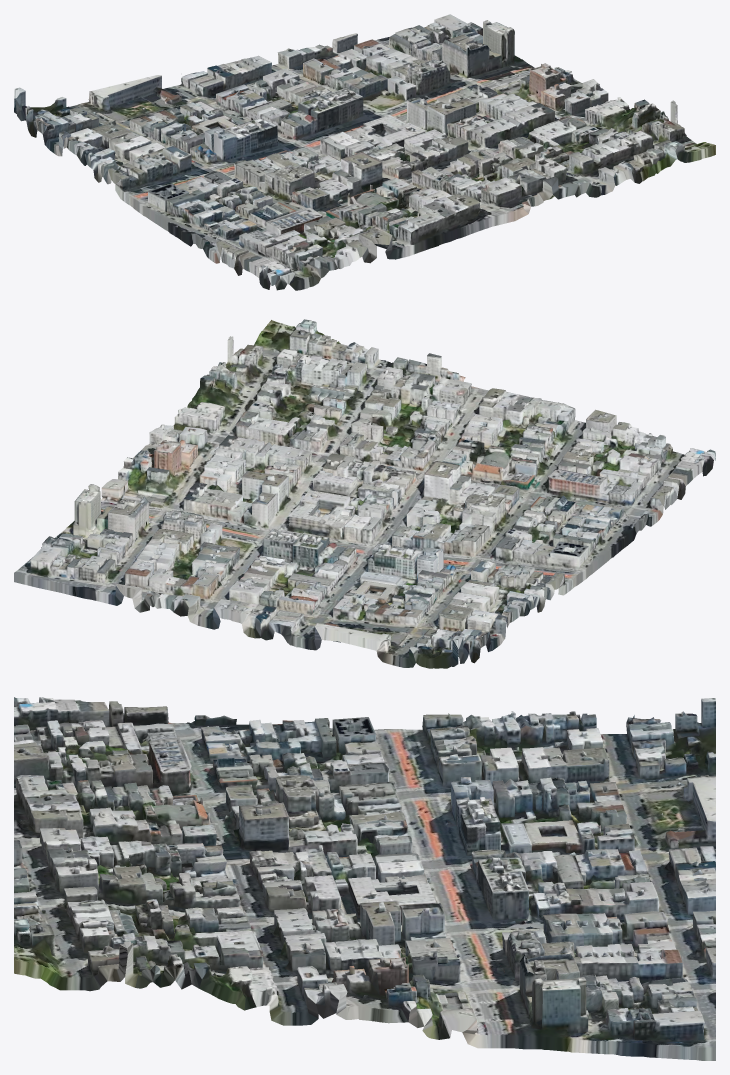
File: z16-10481-25325-h0-yup-uvflip-v3-world.glb
3 renders of one model, top to bottom at view 1: azimuth 30°, elevation 25°; view 2: azimuth 150°, elevation 25°; view 3: azimuth 270°, elevation 25°, orthographic. The views are drawn at different scales.
Size of the model in its own units: 483 by 90.88 by 485.
Materials: 1 (1 with a texture image).
